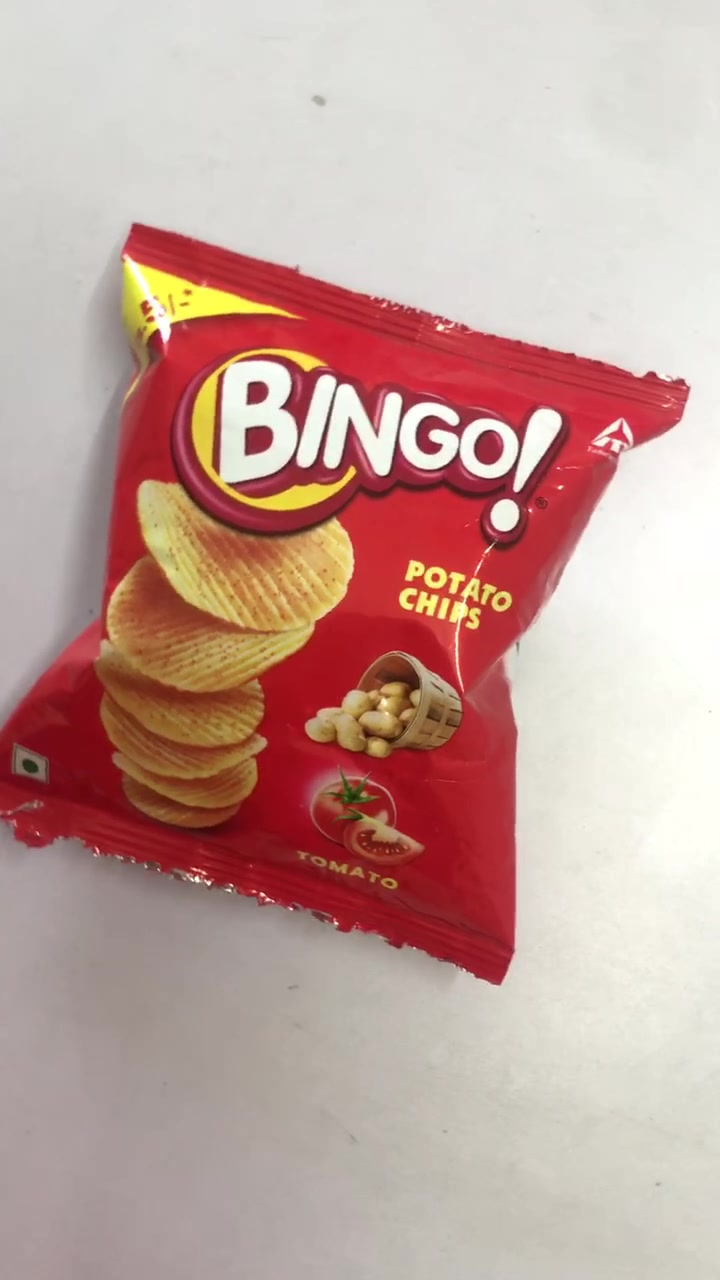Bingo: (9, 223, 685, 982)
